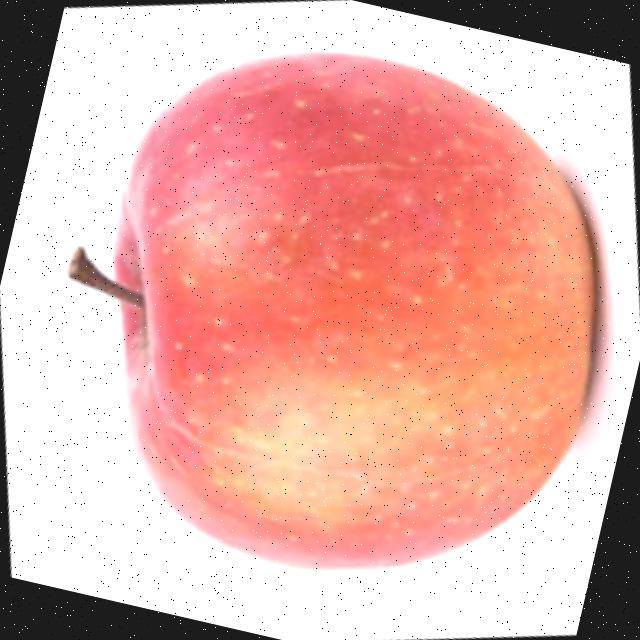Ripe: (35, 0, 640, 629)
